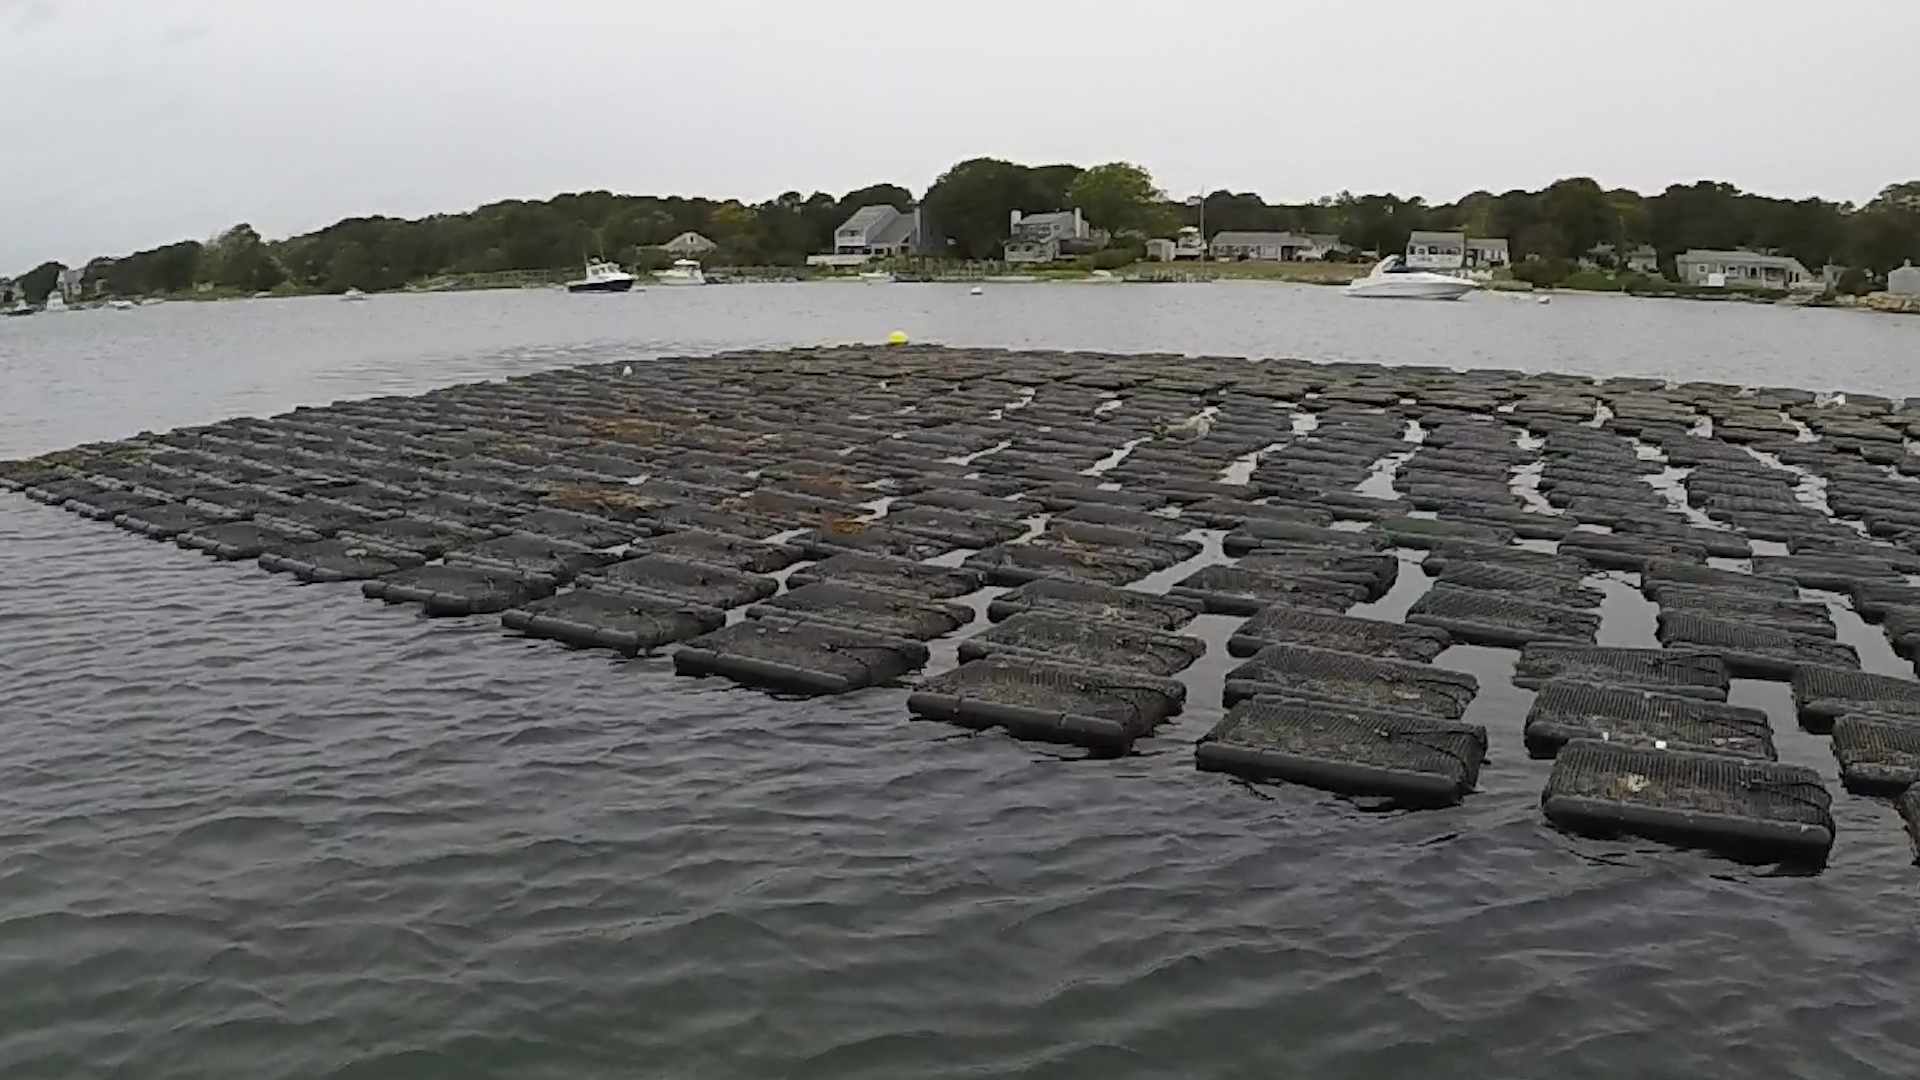bag: (914, 654, 1185, 754), (679, 621, 928, 702)
